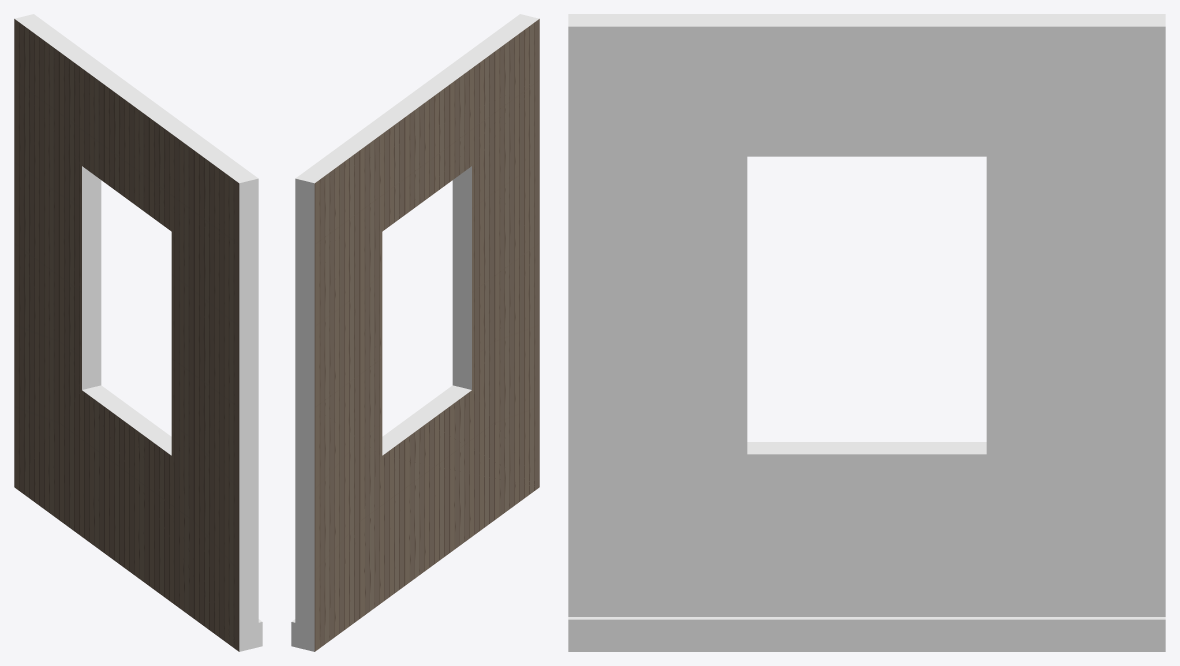
File: SM_Bld_House_Wall_Window_01b.obj
3 renders of one model, left to right at view 1: azimuth 30°, elevation 25°; view 2: azimuth 150°, elevation 25°; view 3: azimuth 270°, elevation 25°, orthographic. The views are drawn at different scales.
Parts seen in each view (by area): view 1: SM_Bld_House_Wall_Window_01b_mi_HouseExteriorWalls_01, SM_Bld_House_Wall_Window_01b_mi_HouseInteriorWalls_01, SM_Bld_House_Wall_Window_01b_mi_WhiteTrim; view 2: SM_Bld_House_Wall_Window_01b_mi_HouseExteriorWalls_01, SM_Bld_House_Wall_Window_01b_mi_HouseInteriorWalls_01, SM_Bld_House_Wall_Window_01b_mi_WhiteTrim; view 3: SM_Bld_House_Wall_Window_01b_mi_HouseInteriorWalls_01, SM_Bld_House_Wall_Window_01b_mi_WhiteTrim.
Boxes of the visible parts, x1=… form: SM_Bld_House_Wall_Window_01b_mi_HouseExteriorWalls_01: x1=14, y1=19, x2=239, y2=651; SM_Bld_House_Wall_Window_01b_mi_HouseInteriorWalls_01: x1=15, y1=14, x2=258, y2=651; SM_Bld_House_Wall_Window_01b_mi_WhiteTrim: x1=82, y1=166, x2=262, y2=646; SM_Bld_House_Wall_Window_01b_mi_HouseExteriorWalls_01: x1=314, y1=19, x2=539, y2=651; SM_Bld_House_Wall_Window_01b_mi_HouseInteriorWalls_01: x1=295, y1=14, x2=538, y2=651; SM_Bld_House_Wall_Window_01b_mi_WhiteTrim: x1=291, y1=166, x2=471, y2=646; SM_Bld_House_Wall_Window_01b_mi_HouseInteriorWalls_01: x1=568, y1=14, x2=1165, y2=616; SM_Bld_House_Wall_Window_01b_mi_WhiteTrim: x1=568, y1=442, x2=1165, y2=651.
Bounding box in the file's own units: 0.3 × 5.75 × 5.
Materials: 3 (1 with a texture image).
